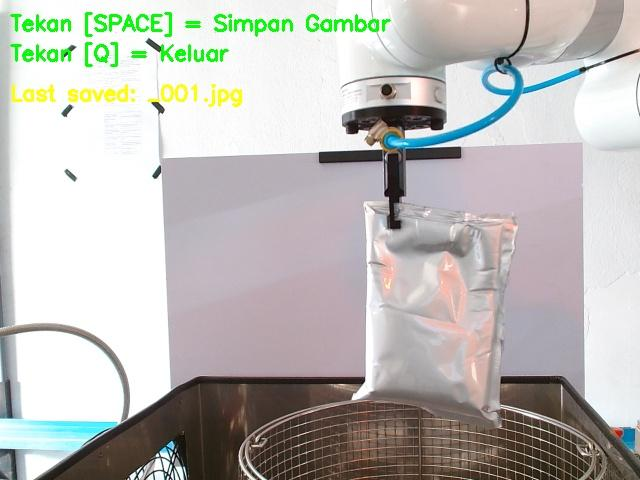retort-pouch: (351, 201, 515, 428)
